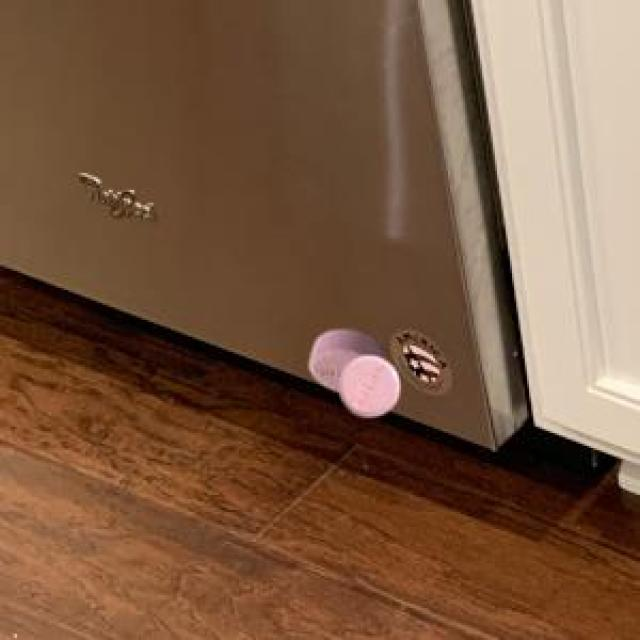Kremil_S: (298, 317, 411, 443)
